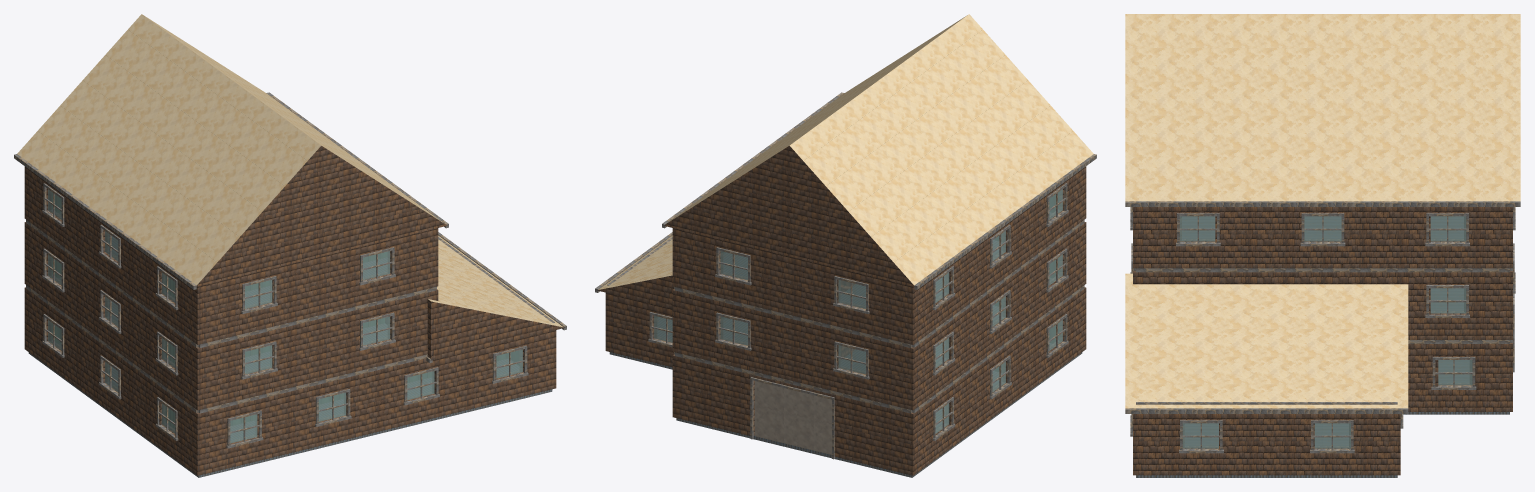
Rendered from grainwatch-granary.gltf.
3 views of the same model, side by side, from view 1: azimuth 30°, elevation 25°; view 2: azimuth 150°, elevation 25°; view 3: azimuth 270°, elevation 25° (orthographic). The views are drawn at different scales.
Parts seen in each view (by area): view 1: roof-L2-green-metal, exterior-L0-red-timber, exterior-L1-red-timber, exterior-L2-red-timber, roof-L2-red-timber, roof-L0-red-timber, roof-L0-green-metal, trim-L0-dark-wood, glazing-L0-glass, trim-L1-dark-wood, trim-L2-dark-wood, floor-L0-concrete (+8 smaller); view 2: roof-L2-green-metal, exterior-L0-red-timber, exterior-L1-red-timber, exterior-L2-red-timber, roof-L2-red-timber, door-leaf-L0-blue-metal, trim-L2-dark-wood, trim-L1-dark-wood, trim-L0-dark-wood, exterior-L0-dark-wood, glazing-L2-glass, glazing-L1-glass (+8 smaller); view 3: roof-L2-green-metal, roof-L0-green-metal, exterior-L0-red-timber, exterior-L2-red-timber, exterior-L1-red-timber, floor-L0-concrete, glazing-L2-glass, glazing-L0-glass, trim-L0-dark-wood, roof-L2-dark-wood, trim-L2-dark-wood, exterior-L1-dark-wood (+6 smaller).
Boxes of the visible parts, x1,y1,x2,y2 form: roof-L2-green-metal: [17, 14, 444, 285]; exterior-L0-red-timber: [24, 287, 556, 475]; exterior-L1-red-timber: [24, 222, 438, 410]; exterior-L2-red-timber: [24, 166, 438, 344]; roof-L2-red-timber: [196, 146, 446, 286]; roof-L0-red-timber: [385, 299, 564, 360]; roof-L0-green-metal: [428, 235, 563, 327]; trim-L0-dark-wood: [42, 314, 528, 448]; glazing-L0-glass: [48, 320, 522, 443]; trim-L1-dark-wood: [42, 248, 395, 379]; trim-L2-dark-wood: [42, 183, 395, 314]; floor-L0-concrete: [28, 344, 552, 477]; roof-L2-green-metal: [666, 14, 1093, 285]; exterior-L0-red-timber: [605, 287, 1086, 475]; exterior-L1-red-timber: [672, 222, 1086, 410]; exterior-L2-red-timber: [672, 166, 1086, 344]; roof-L2-red-timber: [665, 145, 914, 286]; door-leaf-L0-blue-metal: [754, 381, 831, 454]; trim-L2-dark-wood: [715, 183, 1068, 314]; trim-L1-dark-wood: [715, 248, 1068, 379]; trim-L0-dark-wood: [648, 312, 1068, 459]; exterior-L0-dark-wood: [607, 237, 1084, 413]; glazing-L2-glass: [720, 189, 1062, 308]; glazing-L1-glass: [720, 254, 1062, 374]; roof-L2-green-metal: [1125, 14, 1520, 201]; roof-L0-green-metal: [1125, 273, 1408, 408]; exterior-L0-red-timber: [1133, 343, 1512, 475]; exterior-L2-red-timber: [1133, 207, 1512, 268]; exterior-L1-red-timber: [1133, 271, 1512, 339]; floor-L0-concrete: [1136, 360, 1509, 477]; glazing-L2-glass: [1179, 216, 1466, 241]; glazing-L0-glass: [1182, 360, 1472, 448]; trim-L0-dark-wood: [1130, 293, 1514, 453]; roof-L2-dark-wood: [1125, 201, 1520, 206]; trim-L2-dark-wood: [1130, 207, 1515, 246]; exterior-L1-dark-wood: [1133, 268, 1512, 272].
Size of the model in its own units: 12.66 by 9.96 by 10.56.
Materials: 9 (8 with a texture image).
